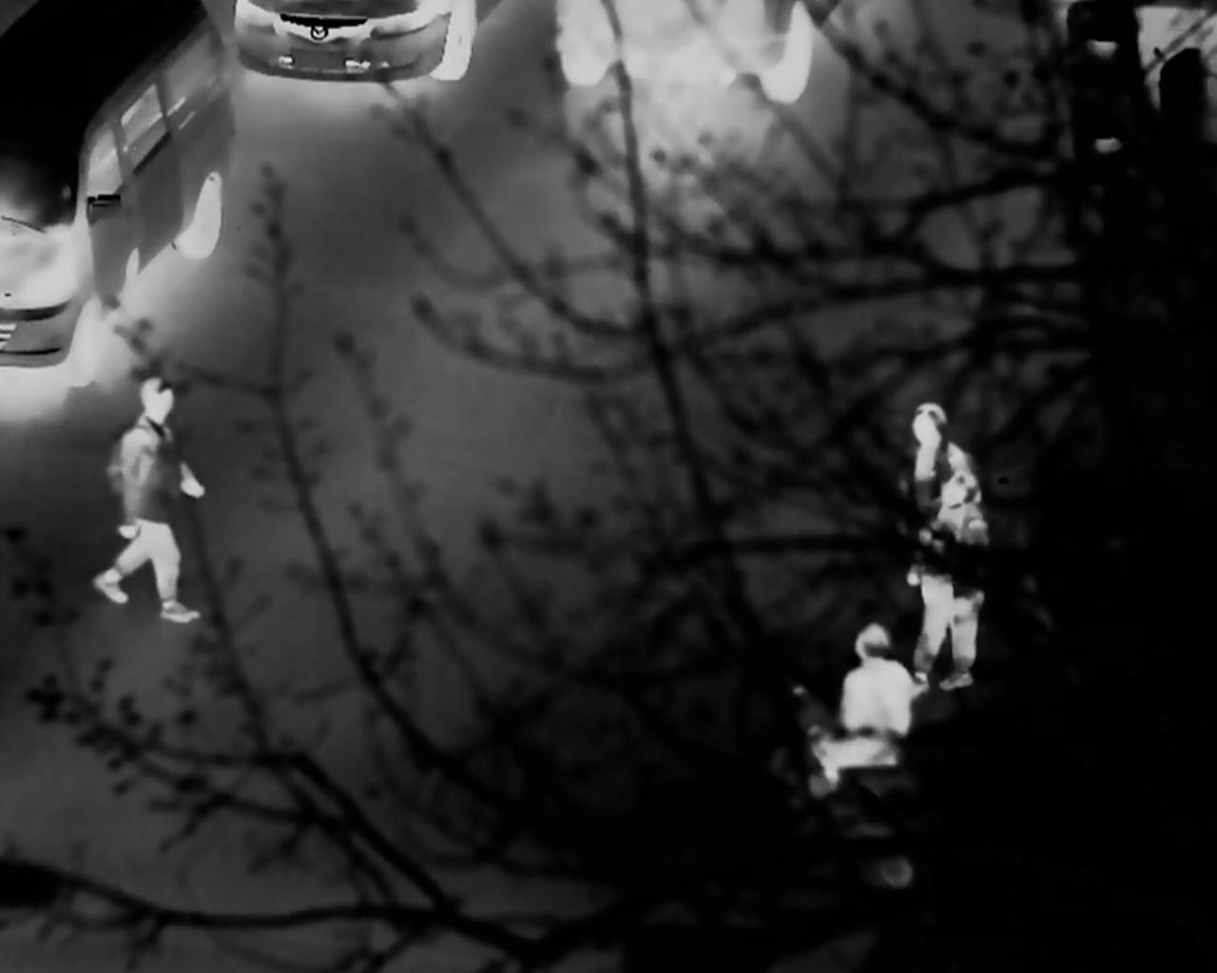person: (103, 386, 213, 633), (904, 404, 983, 700), (821, 623, 908, 800)
